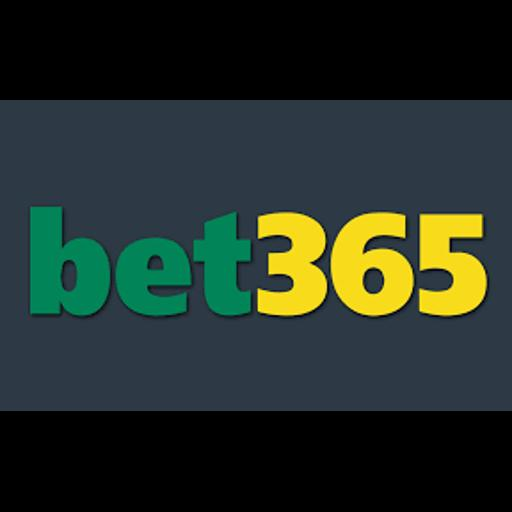Bet365: (0, 100, 512, 411)
